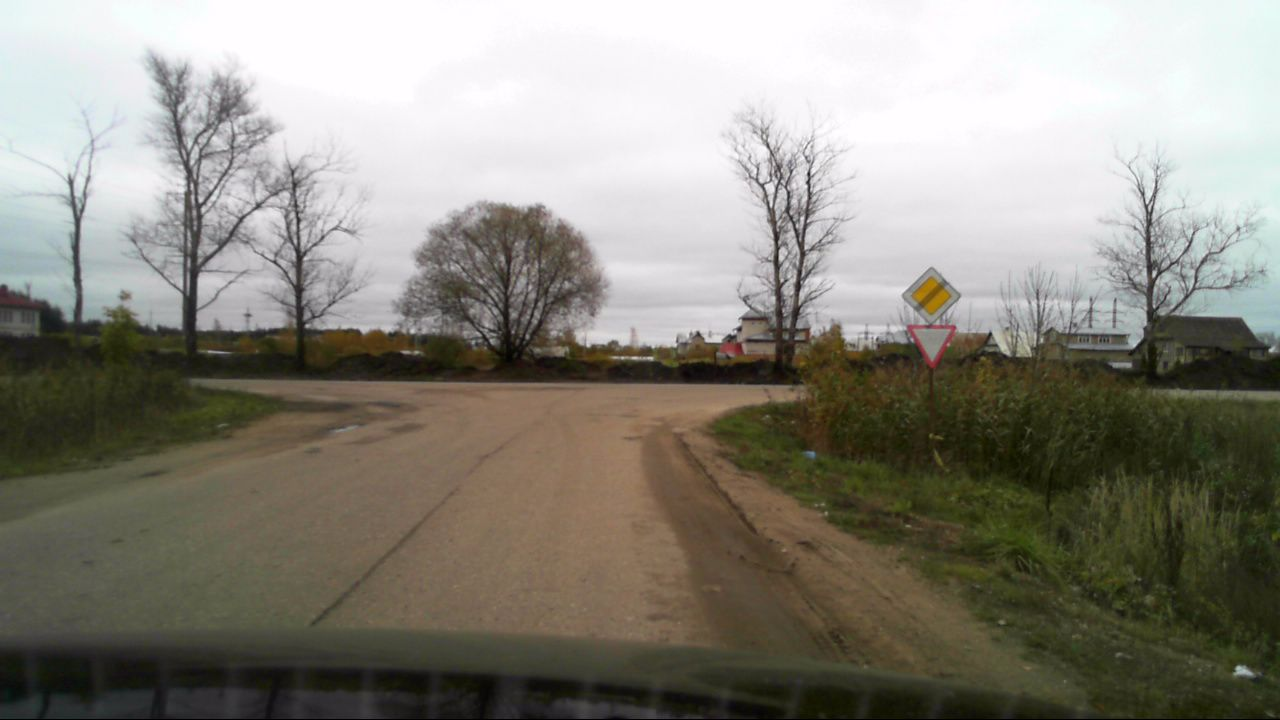main road: (899, 265, 961, 325)
